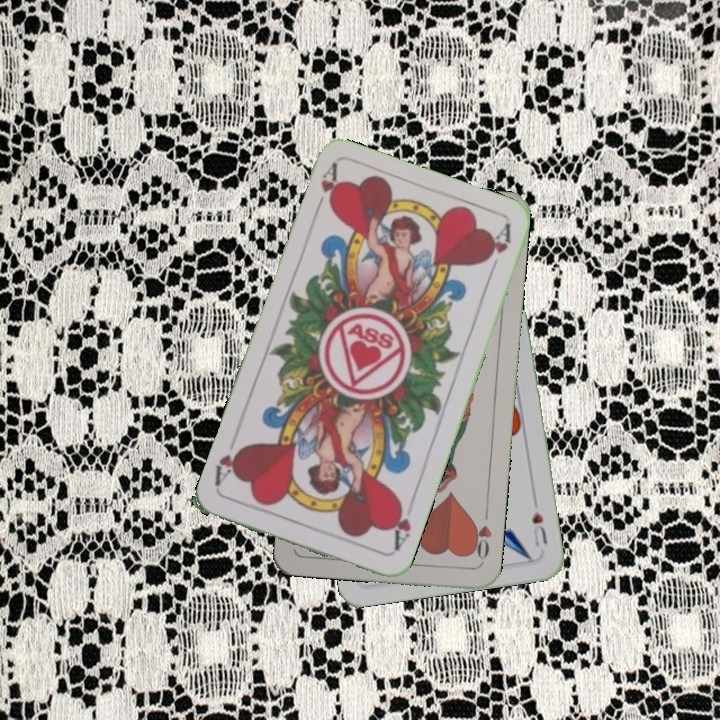HA: (310, 160, 341, 218), (386, 497, 414, 554)
HO: (467, 505, 495, 562)
HU: (528, 508, 550, 549)
